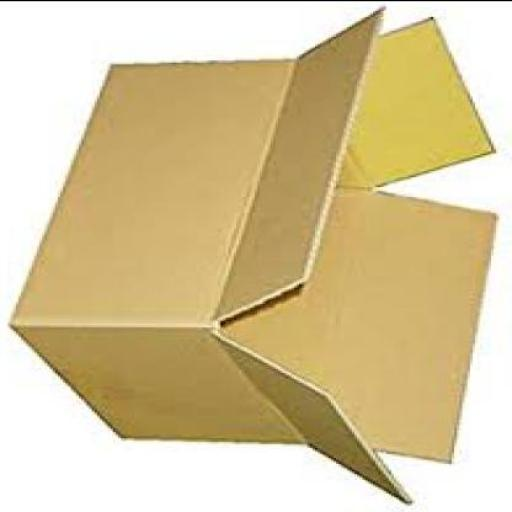cardboard: (10, 8, 502, 506)
